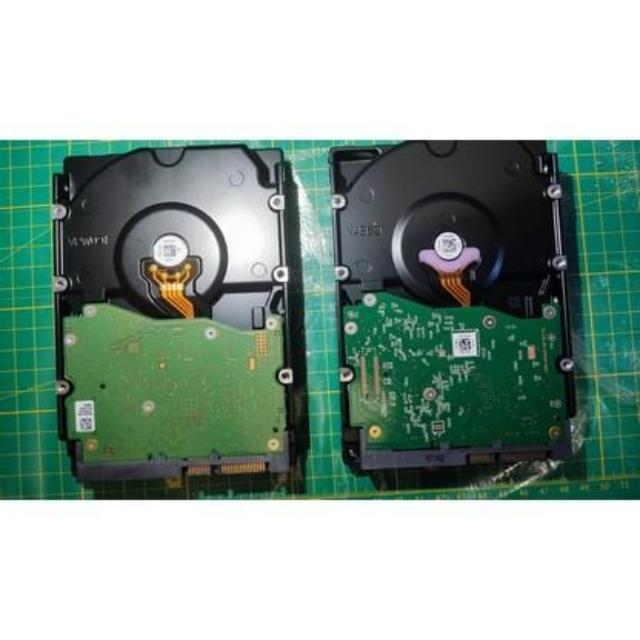DISK: (52, 148, 303, 486), (331, 142, 577, 476)
